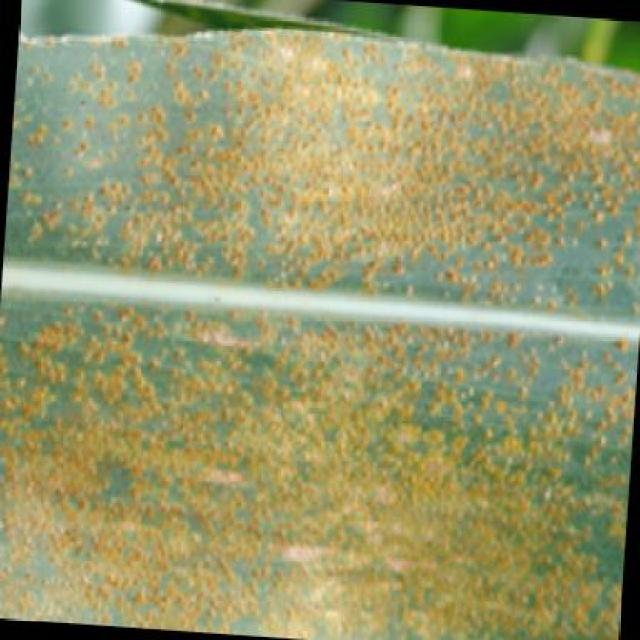Corn_Rust: (57, 32, 620, 618)
